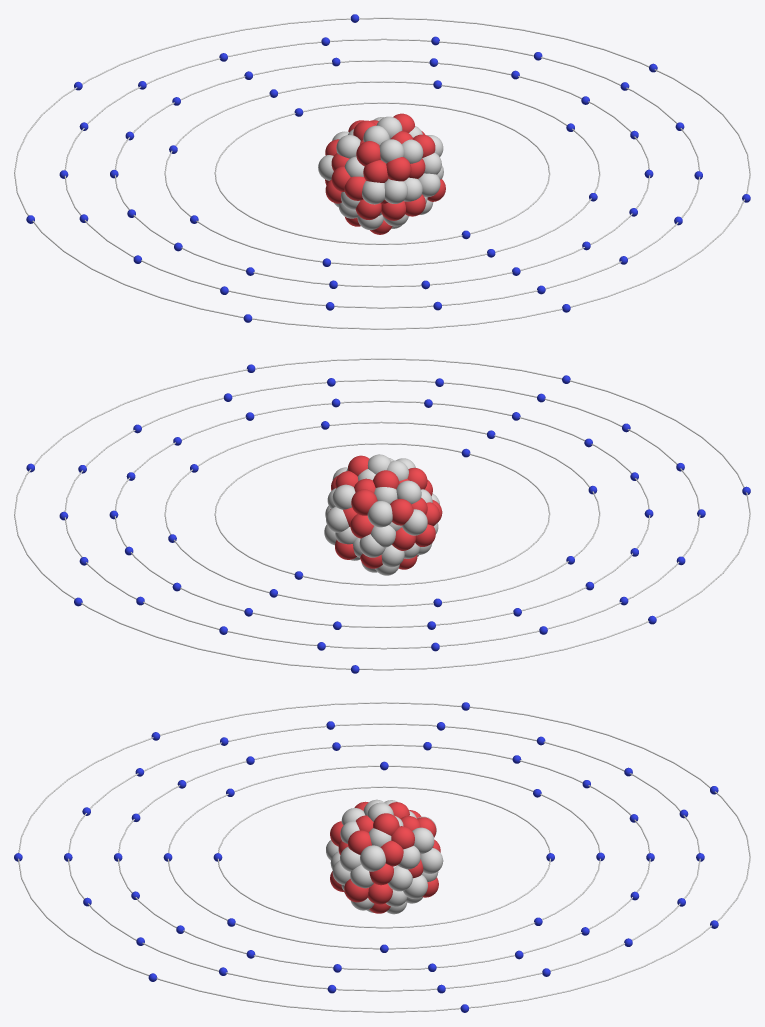
The model's file is Iod.glb.
3 views of the same model, one above another, from view 1: azimuth 30°, elevation 25°; view 2: azimuth 150°, elevation 25°; view 3: azimuth 270°, elevation 25° (orthographic).
Visible parts, largest first — view 1: O-Schale, N-Schale, M-Schale, L-Schale, K-Schale; view 2: O-Schale, N-Schale, M-Schale, L-Schale, K-Schale, Neutron 45; view 3: O-Schale, N-Schale, M-Schale, L-Schale, K-Schale, Neutron 73.
Part boxes in pixels (bbox=[...]): O-Schale: bbox=[14, 17, 750, 329]; N-Schale: bbox=[64, 38, 700, 308]; M-Schale: bbox=[114, 60, 650, 287]; L-Schale: bbox=[164, 81, 600, 266]; K-Schale: bbox=[214, 102, 550, 244]; O-Schale: bbox=[14, 358, 750, 670]; N-Schale: bbox=[64, 379, 700, 649]; M-Schale: bbox=[114, 400, 650, 627]; L-Schale: bbox=[164, 421, 600, 606]; K-Schale: bbox=[214, 443, 550, 585]; Neutron 45: bbox=[367, 501, 392, 527]; O-Schale: bbox=[18, 702, 750, 1012]; N-Schale: bbox=[68, 723, 700, 991]; M-Schale: bbox=[117, 744, 650, 970]; L-Schale: bbox=[167, 765, 600, 949]; K-Schale: bbox=[217, 786, 550, 928]; Neutron 73: bbox=[360, 845, 385, 871].
Size of the model in its own units: 22.04 by 3.65 by 22.15.
